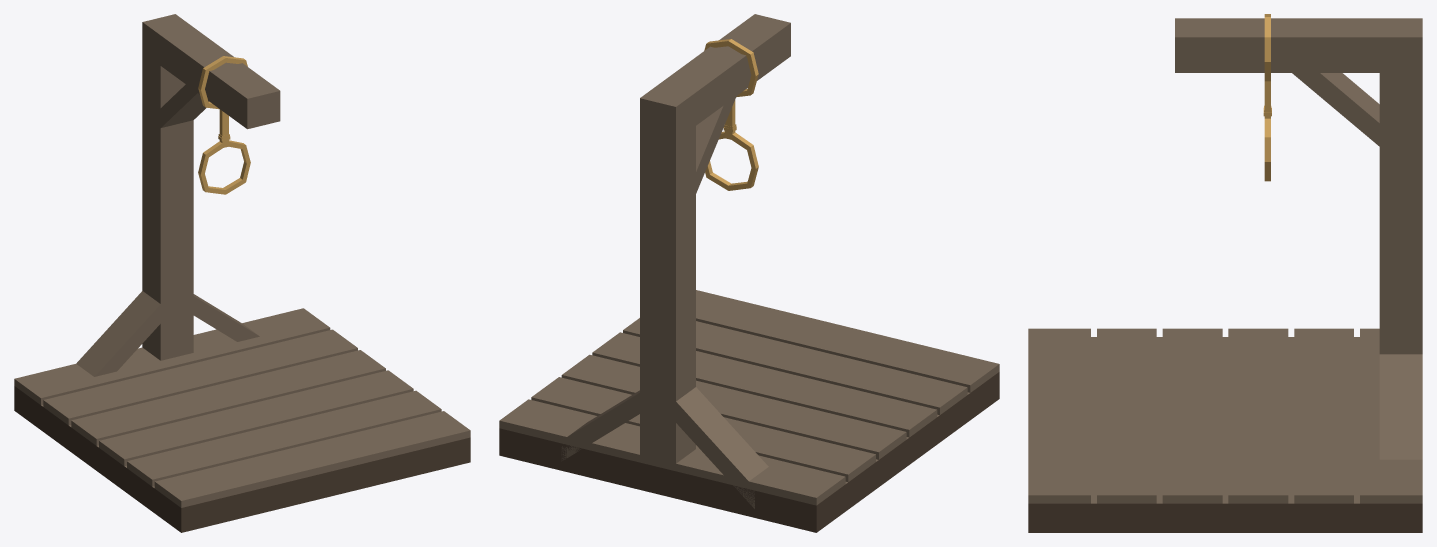
File: gallows.fbx
3 views of the same model, side by side, from view 1: azimuth 30°, elevation 25°; view 2: azimuth 150°, elevation 25°; view 3: azimuth 270°, elevation 25° (orthographic). The views are drawn at different scales.
Parts seen in each view (by area): view 1: gallows; view 2: gallows; view 3: gallows.
Part boxes in pixels (bbox=[...]): gallows: bbox=[14, 14, 470, 532]; gallows: bbox=[499, 14, 999, 532]; gallows: bbox=[1028, 14, 1422, 532].
Bounding box in the file's own units: 2.26 × 2.26 × 2.74.
